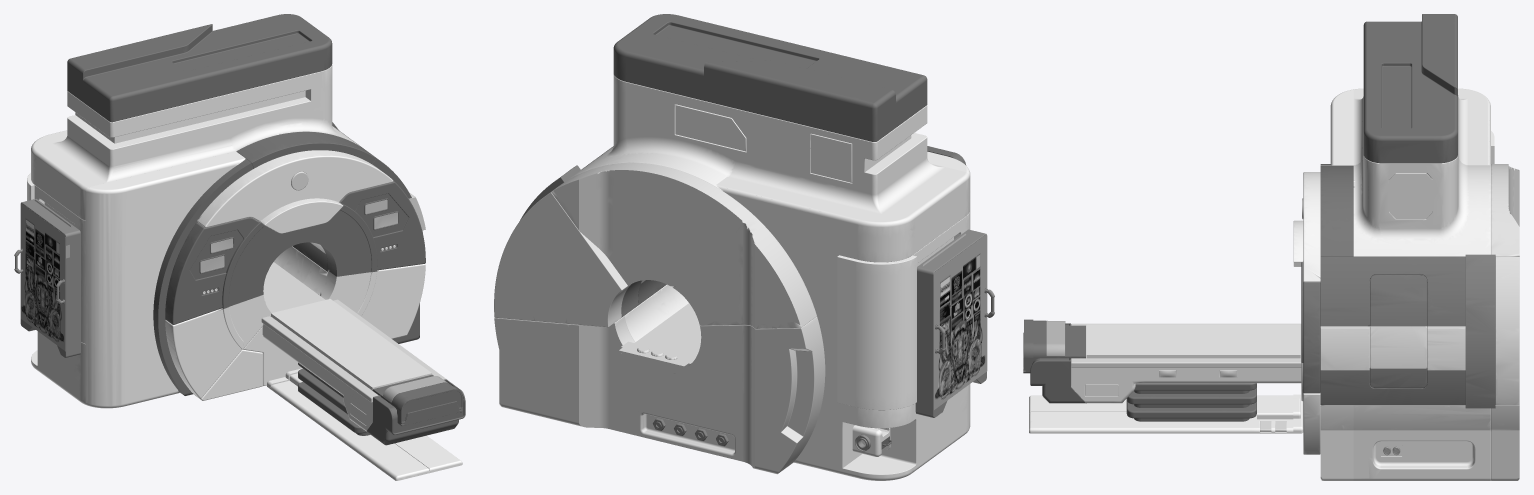
The model's file is algo .glb.
3 renders of one model, left to right at view 1: azimuth 30°, elevation 25°; view 2: azimuth 150°, elevation 25°; view 3: azimuth 270°, elevation 25°, orthographic. The views are drawn at different scales.
Parts seen in each view (by area): view 1: Mri.009; view 2: Mri.009; view 3: Mri.009.
Part boxes in pixels (x1,y1,x2,y2): Mri.009: (14, 14, 465, 480); Mri.009: (494, 14, 994, 480); Mri.009: (1023, 14, 1519, 480).
Size of the model in its own units: 27.64 by 22.81 by 31.92.
Materials: 26 (1 with a texture image).
